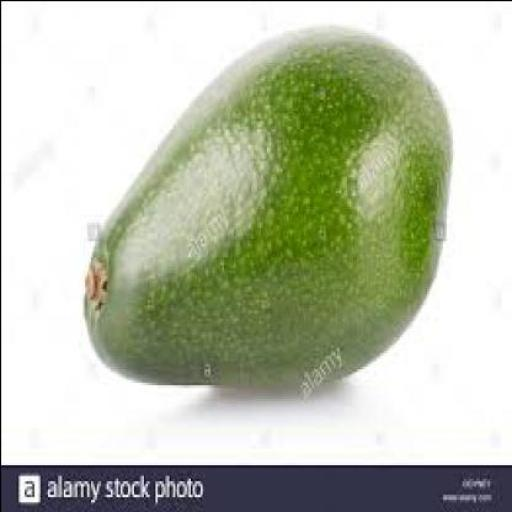biodegradable: (80, 27, 452, 387)
